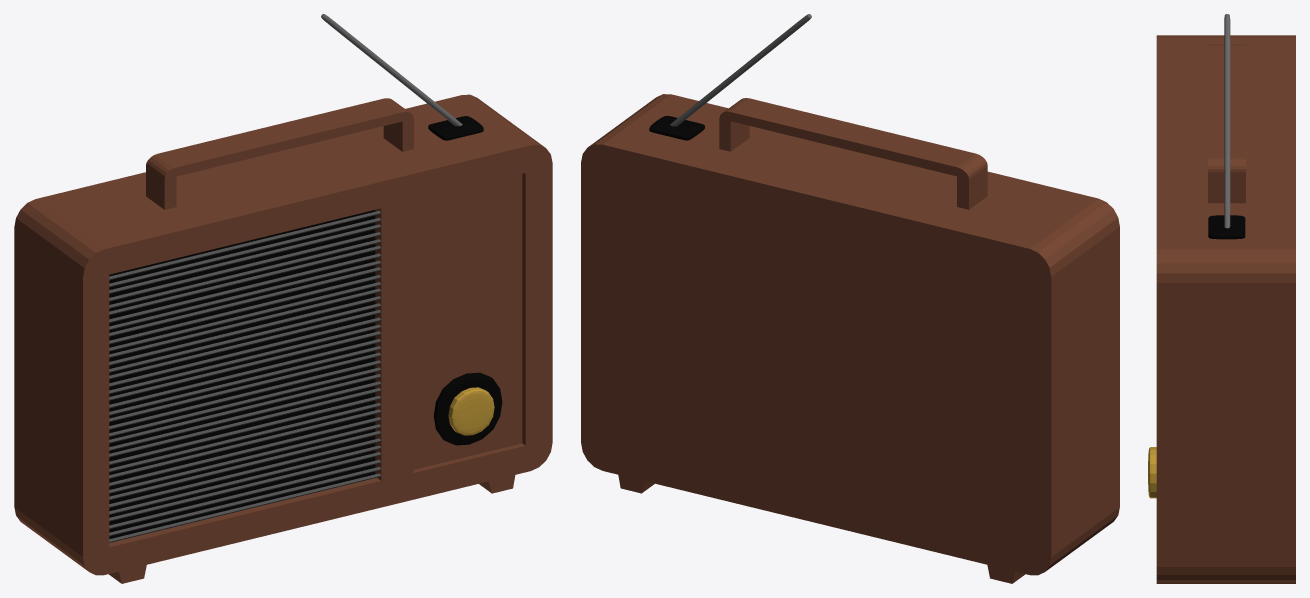
The model's file is vietnam.glb.
3 views of the same model, side by side, from view 1: azimuth 30°, elevation 25°; view 2: azimuth 150°, elevation 25°; view 3: azimuth 270°, elevation 25° (orthographic).
Parts seen in each view (by area): view 1: Radio, Rejillas, Mango, Boton1, Boton2, Antena, Base antena; view 2: Radio, Mango, Antena, Base antena; view 3: Radio, Mango, Antena, Base antena, Boton2.
Part boxes in pixels (bbox=[...]): Radio: bbox=[14, 94, 552, 583]; Rejillas: bbox=[109, 210, 380, 542]; Mango: bbox=[146, 98, 413, 209]; Boton1: bbox=[433, 372, 502, 445]; Boton2: bbox=[448, 387, 494, 435]; Antena: bbox=[321, 14, 462, 126]; Base antena: bbox=[428, 116, 483, 140]; Radio: bbox=[581, 94, 1119, 583]; Mango: bbox=[719, 98, 987, 209]; Antena: bbox=[670, 14, 811, 126]; Base antena: bbox=[649, 115, 704, 140]; Radio: bbox=[1156, 35, 1295, 583]; Mango: bbox=[1208, 44, 1245, 203]; Antena: bbox=[1224, 14, 1230, 228]; Base antena: bbox=[1208, 215, 1245, 239]; Boton2: bbox=[1148, 447, 1156, 498].
Size of the model in its own units: 1.27 by 1.26 by 0.3414.
